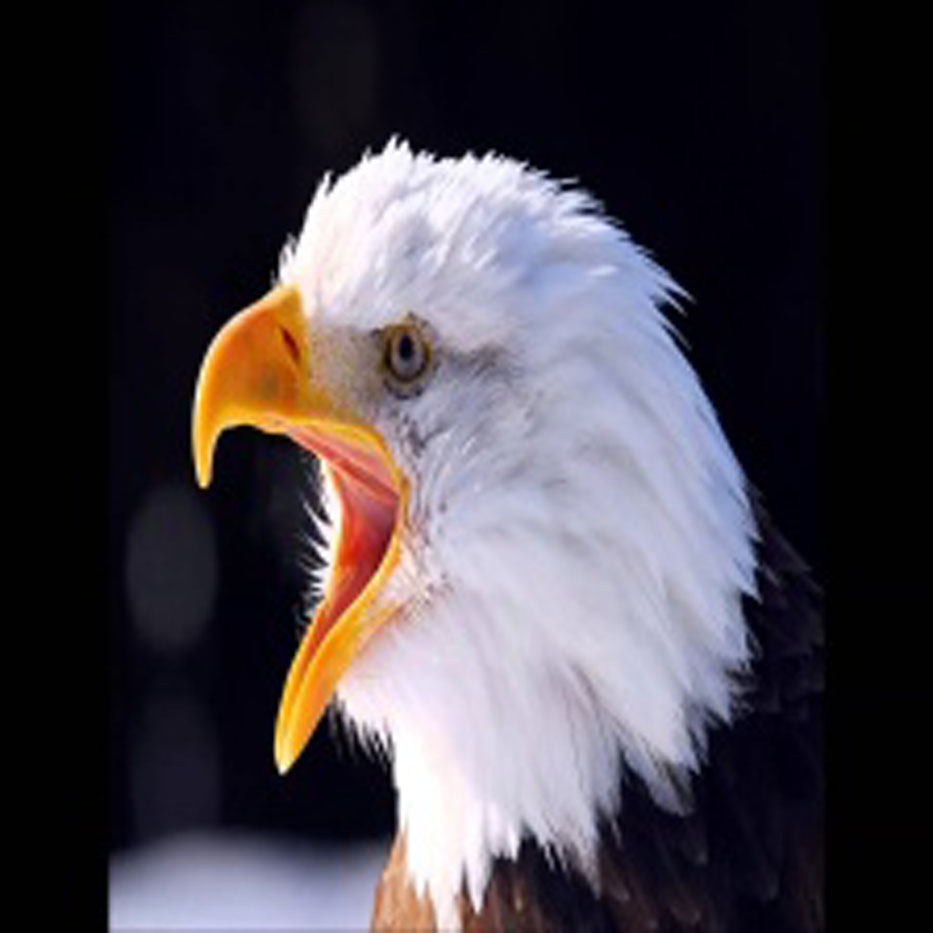Pengoyak Daging: (154, 284, 426, 776)
